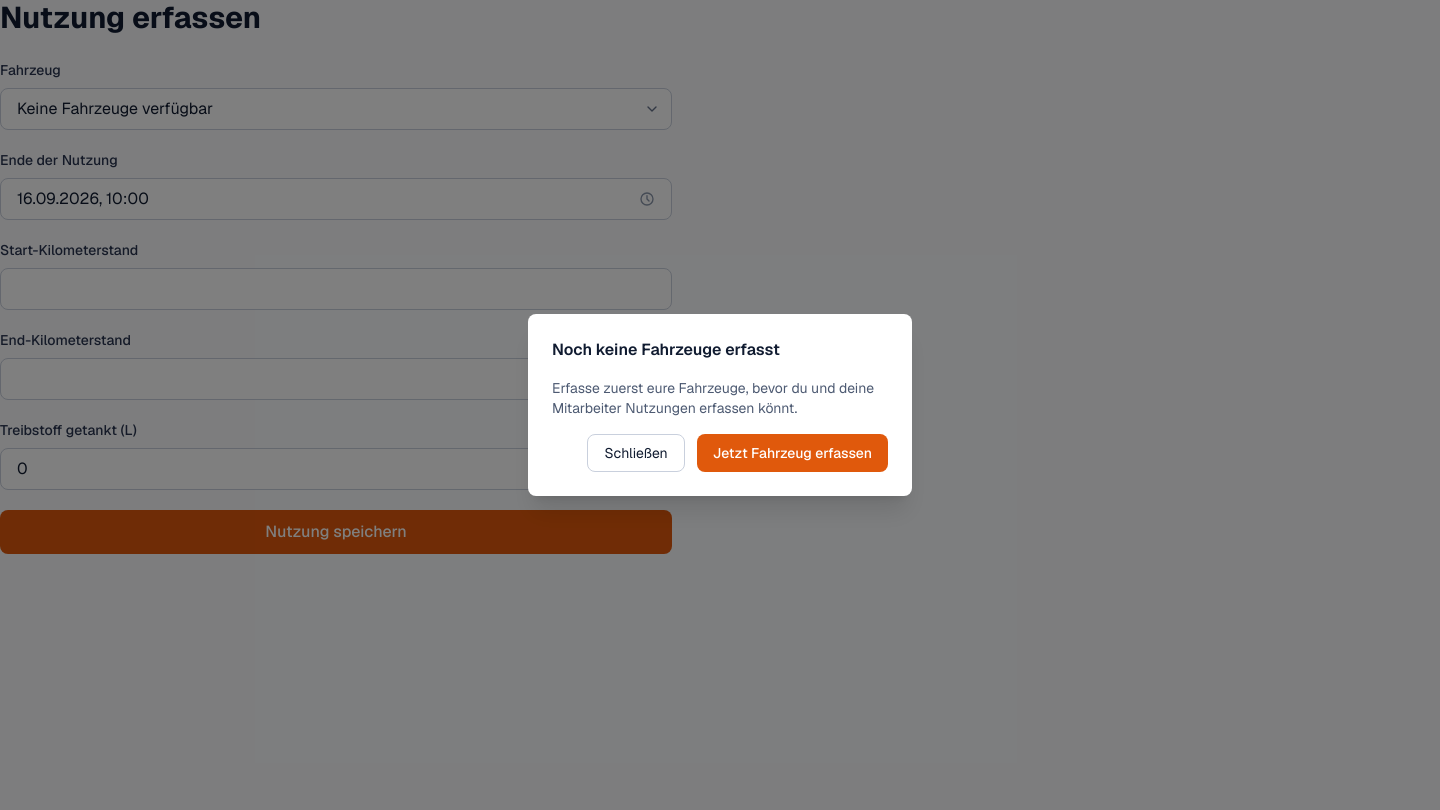
Test: Nutzung erfassen › organization without vehicles › lets managers jump straight to creating a vehicle
Expected: the dialog shows "Erfasse zuerst eure Fahrzeuge", 552,379 -> 874,417
What coordinates should you click on to do the following:
click the button "Jetzt Fahrzeug erfassen"
I would click on:
 (792, 453)
Its box is 697,434 -> 888,472.
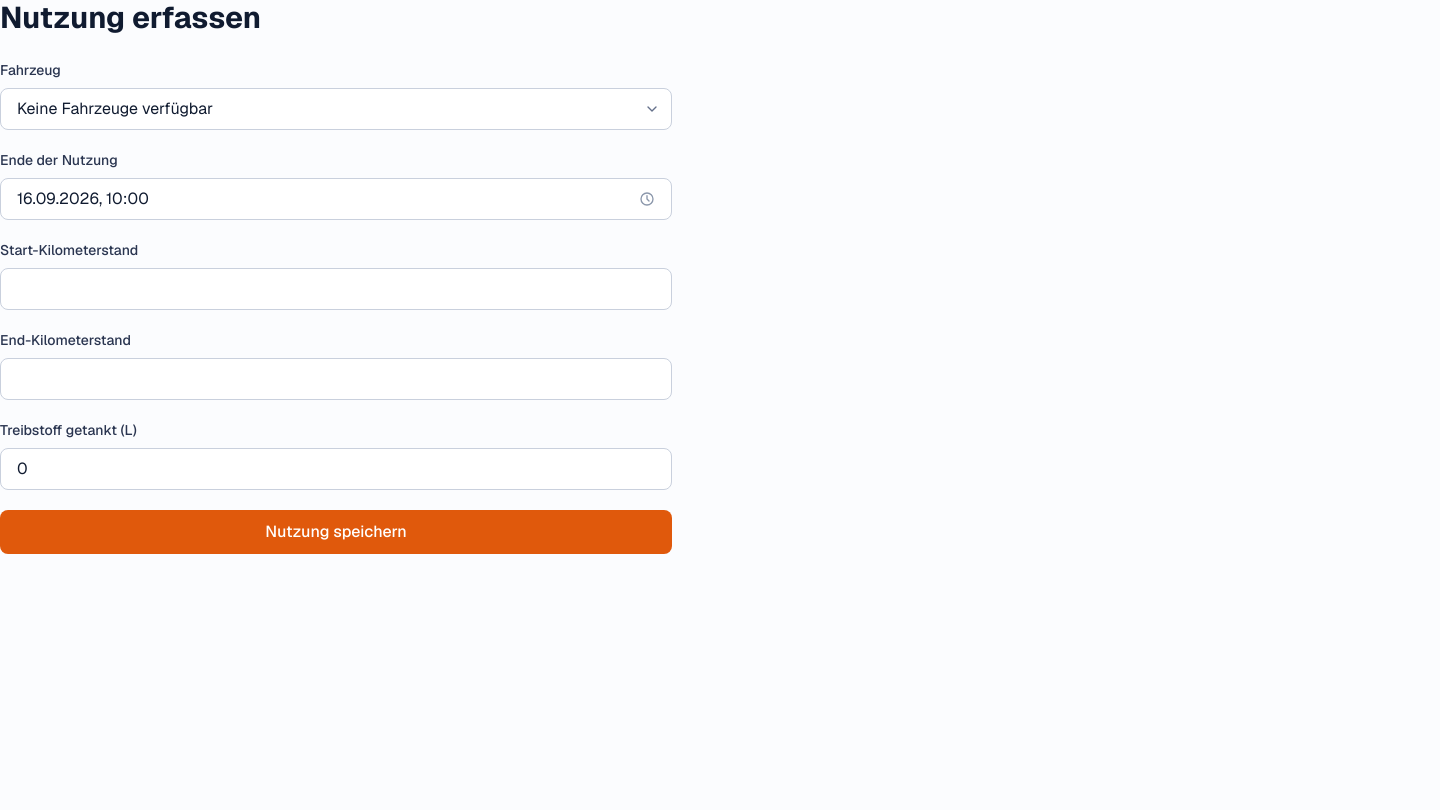
Expected: the dialog is gone
